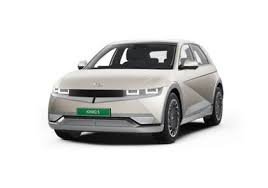Honda Ioniq: (47, 38, 227, 147)
